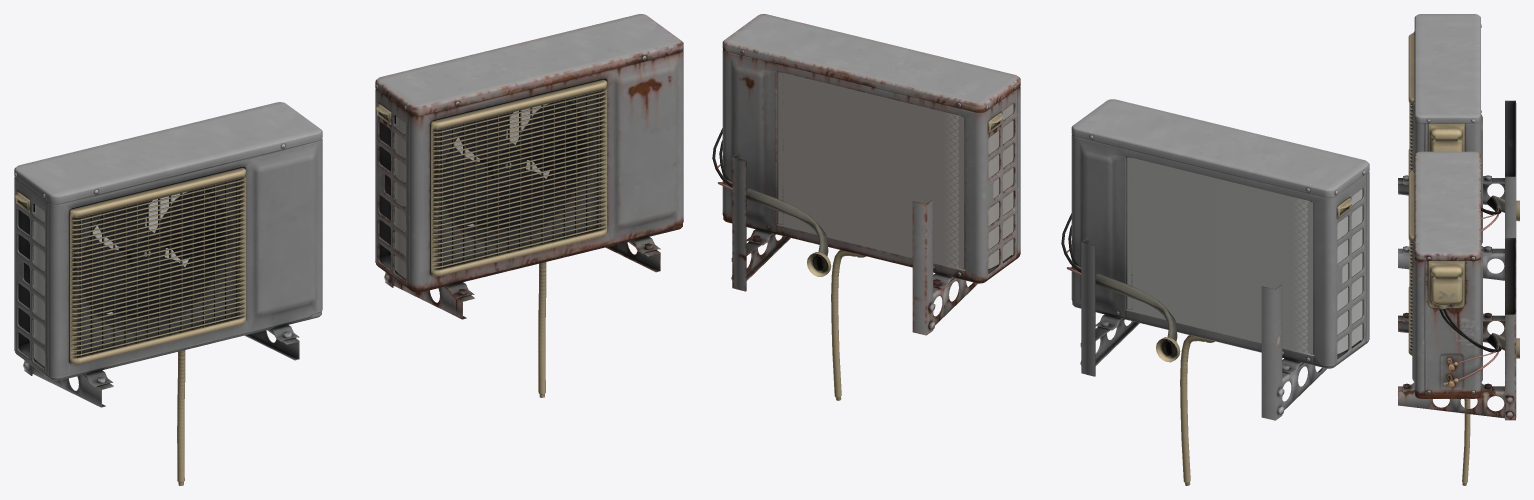
Rendered from exterior_aircon_unit.gltf.
3 views of the same model, side by side, from view 1: azimuth 30°, elevation 25°; view 2: azimuth 150°, elevation 25°; view 3: azimuth 270°, elevation 25° (orthographic). The views are drawn at different scales.
Visible parts, largest first — view 1: lod0 (×2); view 2: lod0 (×2); view 3: lod0 (×2).
Boxes of the visible parts, x1,y1,x2,y2 form: lod0 (×2): [14, 14, 683, 485]; lod0 (×2): [712, 14, 1369, 485]; lod0 (×2): [1398, 14, 1519, 485].
Bounding box in the file's own units: 1.8 × 0.9279 × 0.3742.
4 materials, 4 textured.
